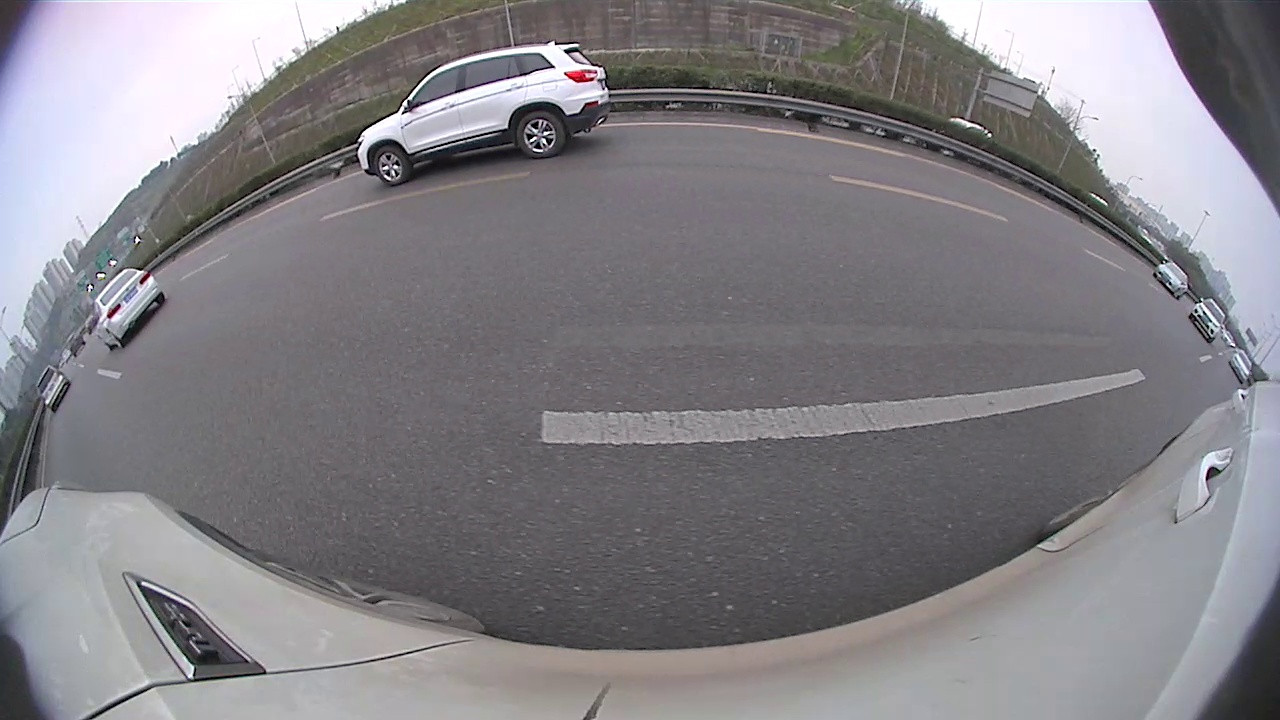car: (88, 149, 461, 381), (568, 101, 812, 264), (1064, 240, 1254, 385), (805, 128, 910, 234), (970, 199, 1100, 271), (873, 155, 954, 231), (536, 159, 576, 195)
front: (431, 200, 458, 253), (1076, 265, 1104, 297), (976, 221, 993, 242)
rear: (238, 256, 319, 349), (1185, 331, 1216, 376), (1041, 245, 1063, 269)
